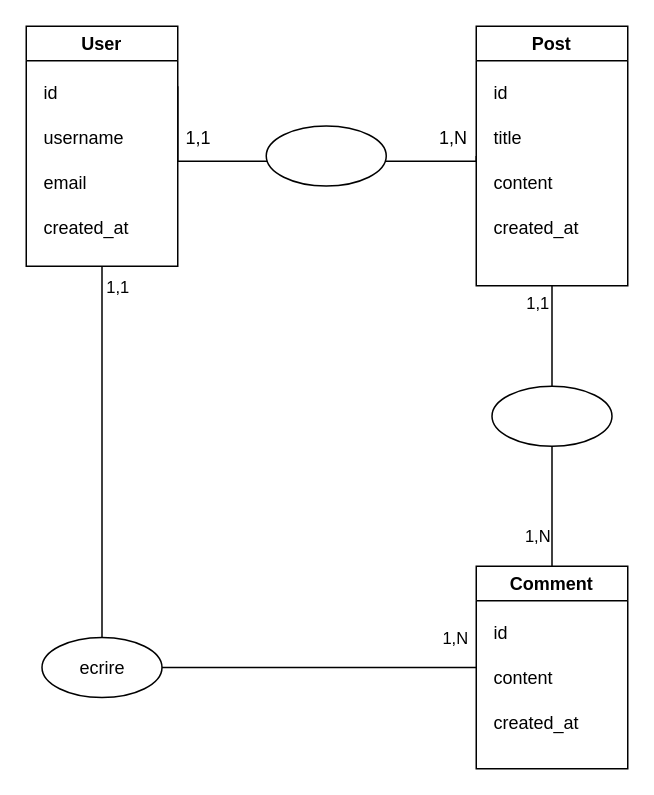
Some shapes in this 654 by 795 pixel diagram are drawn without their labels. Here are the shapes that lost their labels. From the top down, the centre of each, then its label:
the point at 325,155: publier
the point at 551,415: commenter
